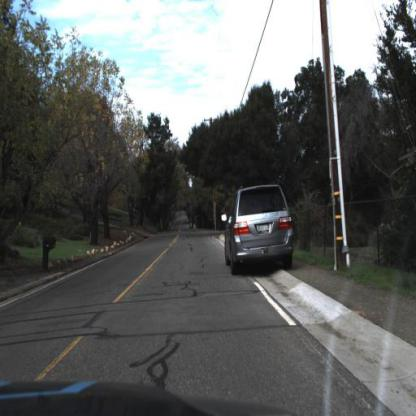car: (221, 176, 302, 285)
